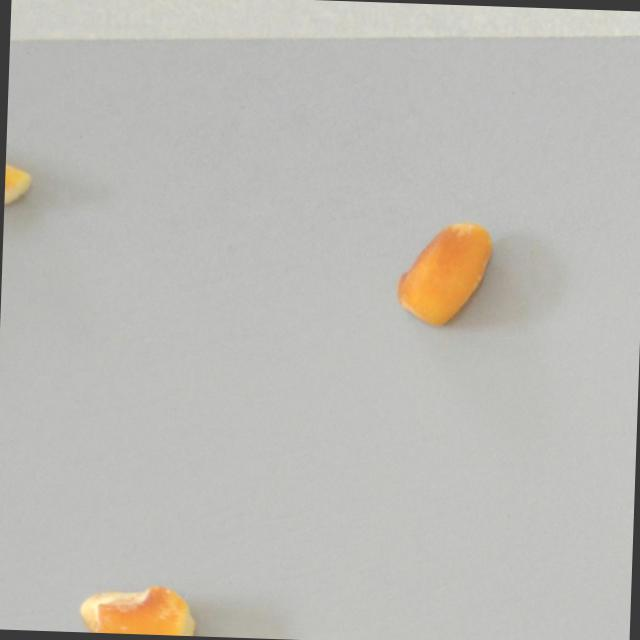dañado: (388, 207, 504, 343), (69, 575, 207, 636), (3, 131, 40, 231)
